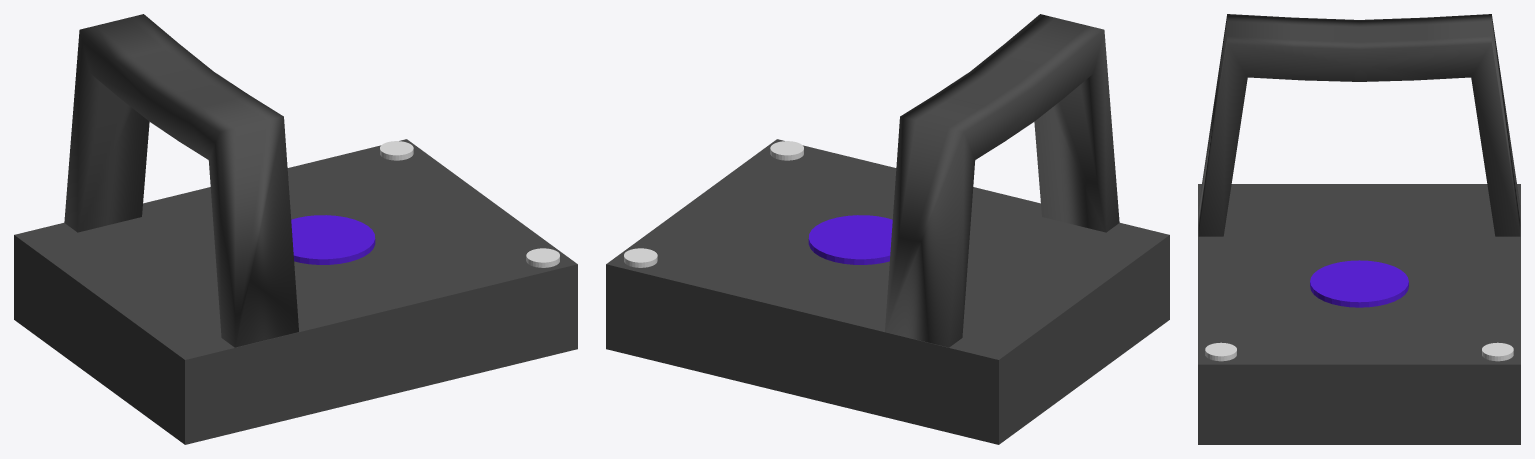
Rendered from reddotsight.glb.
3 views of the same model, side by side, from view 1: azimuth 30°, elevation 25°; view 2: azimuth 150°, elevation 25°; view 3: azimuth 270°, elevation 25° (orthographic). The views are drawn at different scales.
Parts seen in each view (by area): view 1: Cube, Cube.001, Cylinder.002, Cylinder, Cylinder.001; view 2: Cube, Cube.001, Cylinder.002, Cylinder, Cylinder.001; view 3: Cube, Cube.001, Cylinder.002, Cylinder, Cylinder.001.
Boxes of the visible parts, left/top/right/bottom form: Cube: left=14, top=139, right=577, bottom=444; Cube.001: left=64, top=14, right=298, bottom=347; Cylinder.002: left=291, top=215, right=375, bottom=264; Cylinder: left=526, top=248, right=559, bottom=267; Cylinder.001: left=380, top=141, right=413, bottom=160; Cube: left=606, top=139, right=1169, bottom=444; Cube.001: left=885, top=14, right=1119, bottom=347; Cylinder.002: left=808, top=215, right=892, bottom=264; Cylinder: left=770, top=141, right=803, bottom=160; Cylinder.001: left=624, top=248, right=657, bottom=267; Cube: left=1198, top=184, right=1520, bottom=444; Cube.001: left=1198, top=14, right=1520, bottom=236; Cylinder.002: left=1310, top=260, right=1408, bottom=307; Cylinder: left=1205, top=342, right=1236, bottom=361; Cylinder.001: left=1482, top=342, right=1513, bottom=361.
Size of what is drawn, in the model's own units: 2.65 by 1.87 by 2.
